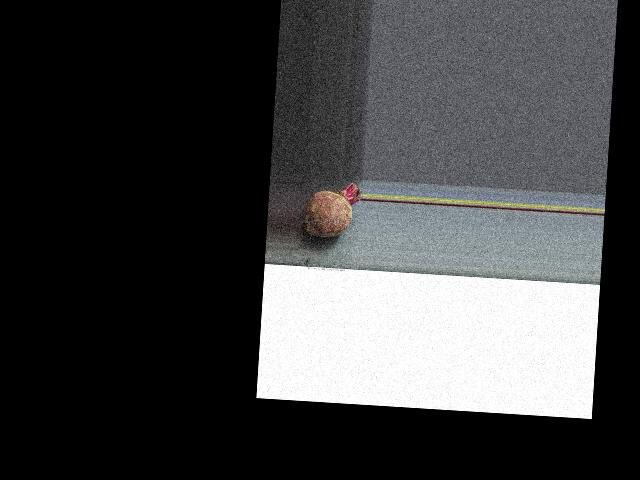beet: (303, 180, 362, 239)
